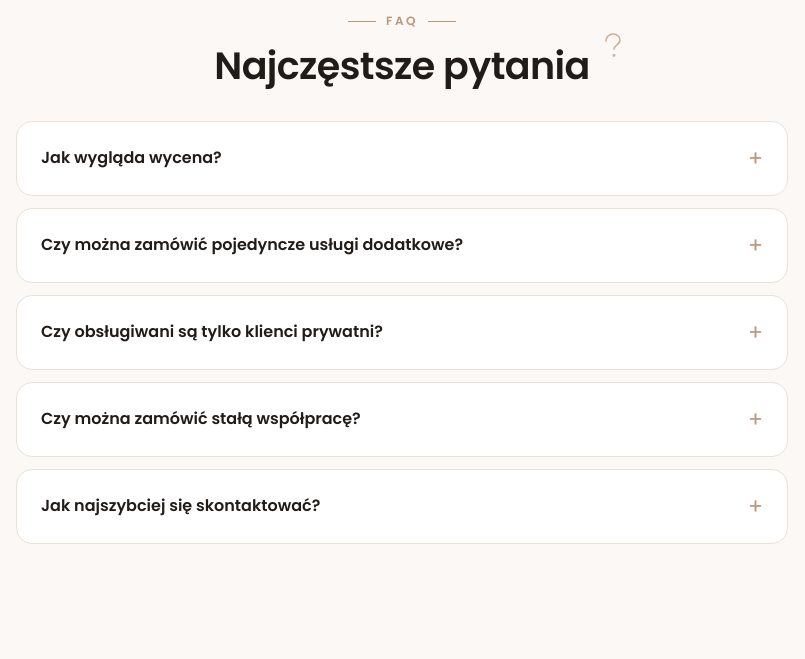
Test: opening a second question collapses the first (single-open)
Step 1. Click the button "Jak wygląda wycena? +" → [131, 158], box [17,122,787,195]
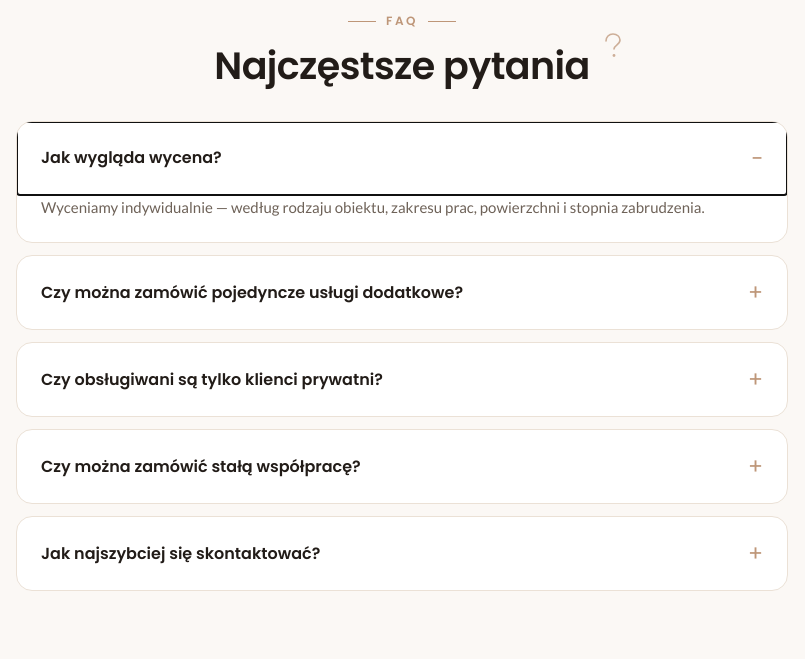
Step 2. Click the button "Czy można zamówić pojedyncze usługi dodatkowe? +" → [402, 293], box [17,256,787,329]
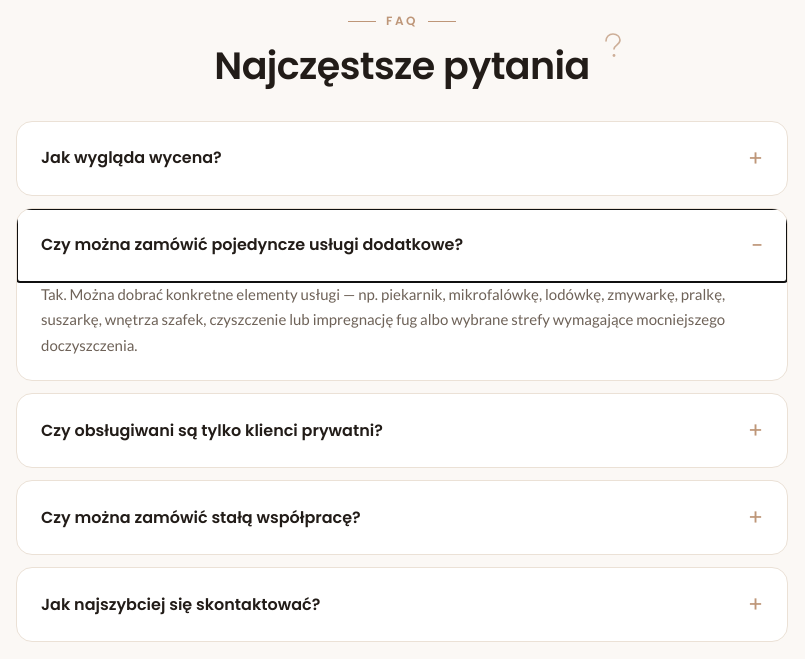
Result: the button "Jak wygląda wycena? +" is collapsed at [17,122,787,195]
Result: the button "Czy można zamówić pojedyncze usługi dodatkowe? −" is expanded at [17,209,787,282]
